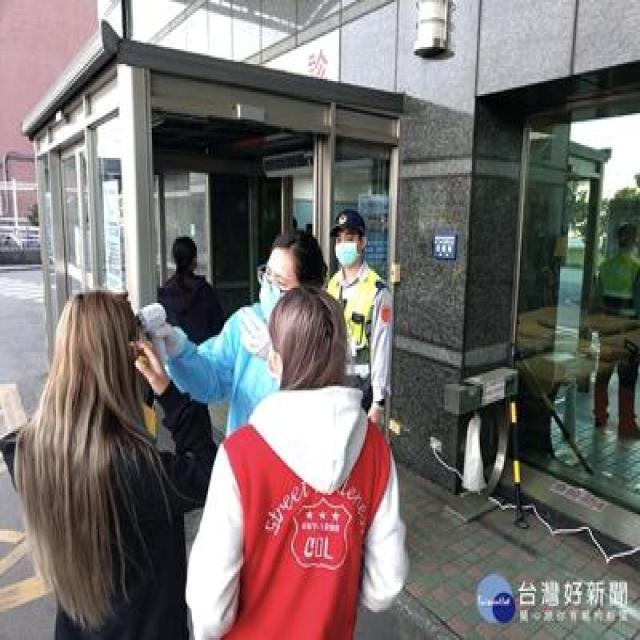with_mask: (257, 264, 294, 323), (334, 229, 361, 268)
